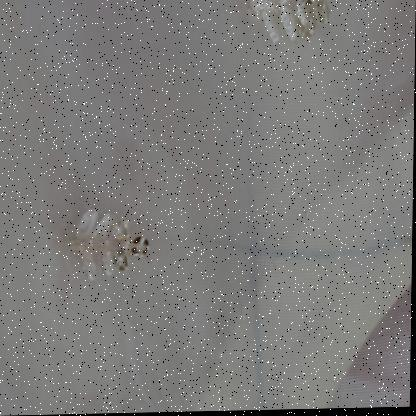spot: (162, 95, 410, 399)
